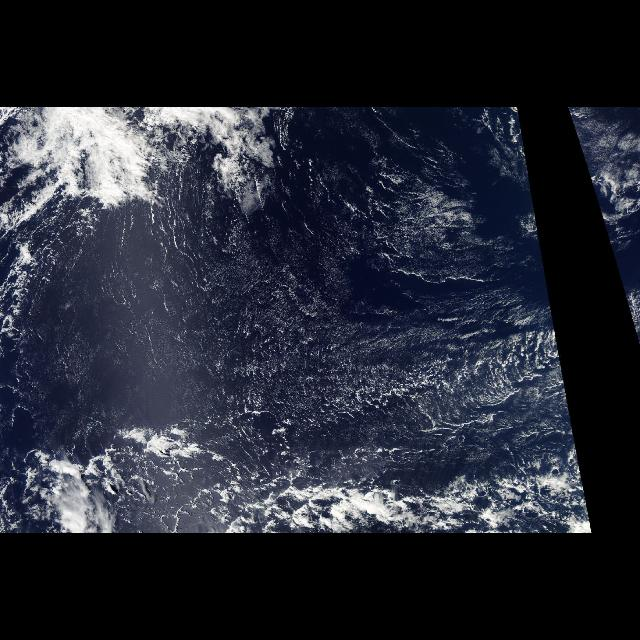Fish: (223, 454, 592, 534)
Gravel: (102, 331, 580, 531)
Sugar: (34, 118, 568, 480)
